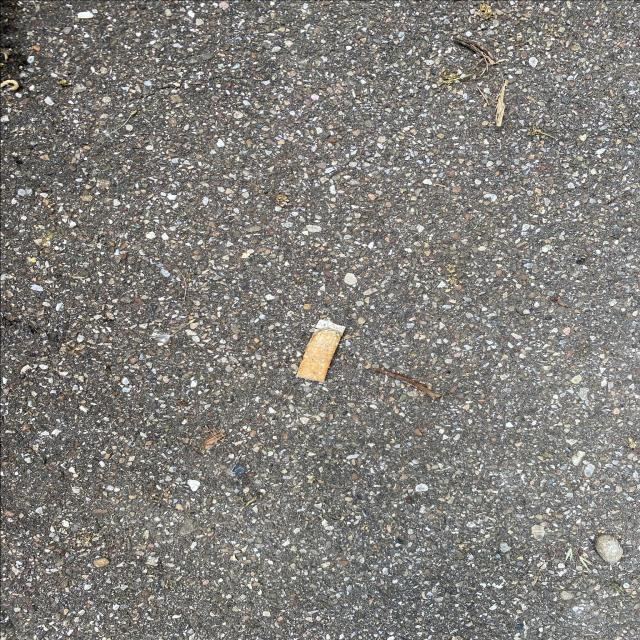other waste: (296, 317, 346, 383)
